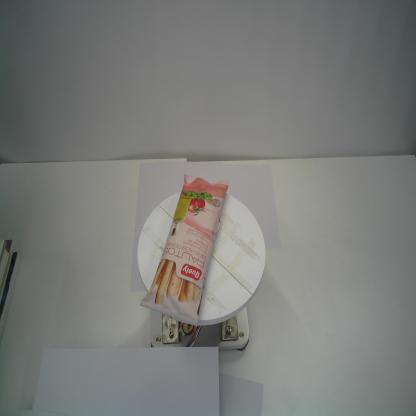Dessert: (138, 172, 232, 332)
